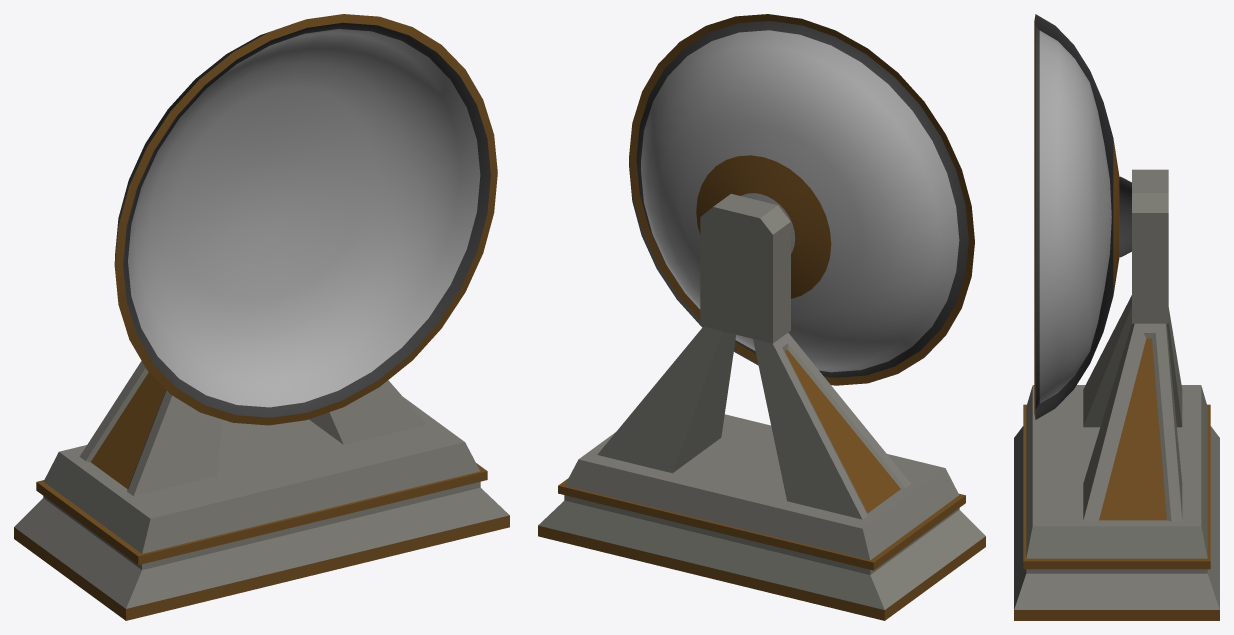
The model's file is laserDisc.fbx.
3 views of the same model, side by side, from view 1: azimuth 30°, elevation 25°; view 2: azimuth 150°, elevation 25°; view 3: azimuth 270°, elevation 25° (orthographic). The views are drawn at different scales.
Visible parts, largest first — view 1: Laser Disc, Laser Pedestal; view 2: Laser Pedestal, Laser Disc; view 3: Laser Pedestal, Laser Disc.
Boxes of the visible parts, bbox=[...] form: Laser Disc: bbox=[114, 14, 497, 425]; Laser Pedestal: bbox=[14, 361, 509, 620]; Laser Pedestal: bbox=[538, 193, 985, 620]; Laser Disc: bbox=[629, 14, 974, 385]; Laser Pedestal: bbox=[1014, 169, 1219, 620]; Laser Disc: bbox=[1034, 14, 1131, 419].
Size of the model in its own units: 66.06 by 89.85 by 33.37.
